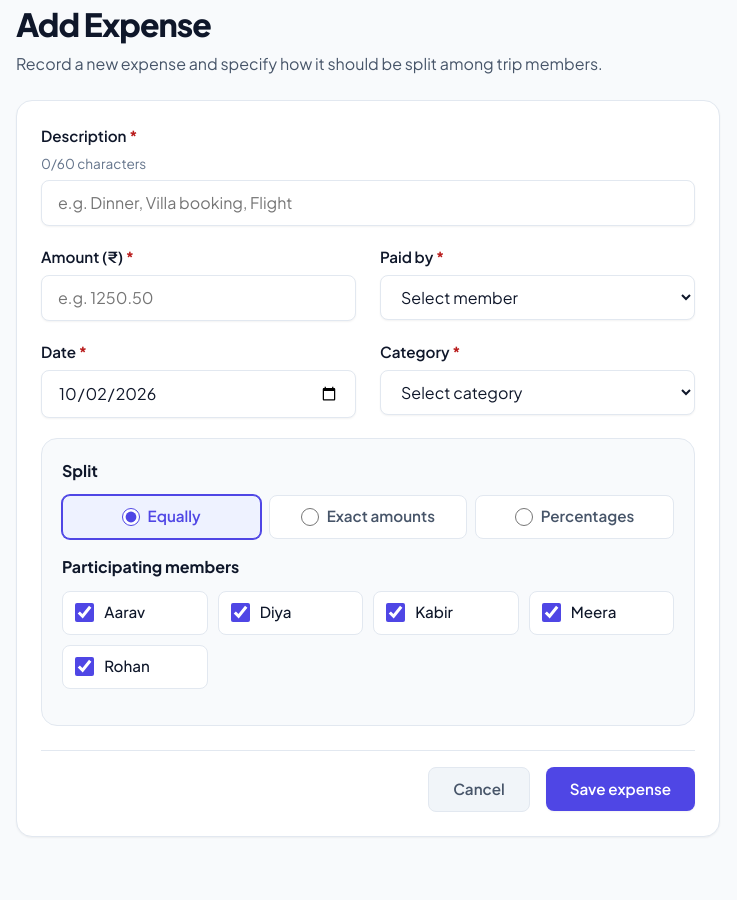
Scenario: AddExpenseForm › 1. Submitting empty form shows errors next to invalid fields; store unchanged
Click the button "Save expense".
click(620, 789)  # box [546,767,695,811]
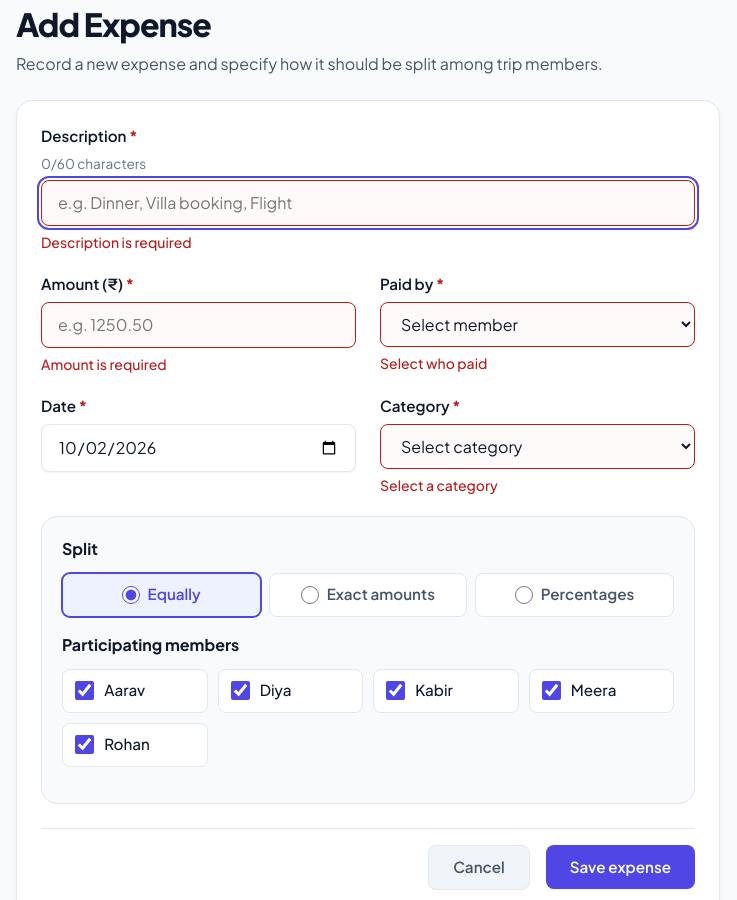
Expected: the text "Description is required" is shown, [41,233,192,251]
Expected: the text "Amount is required" is shown, [41,355,167,373]
Expected: the text "Select who paid" is shown, [380,354,487,372]
